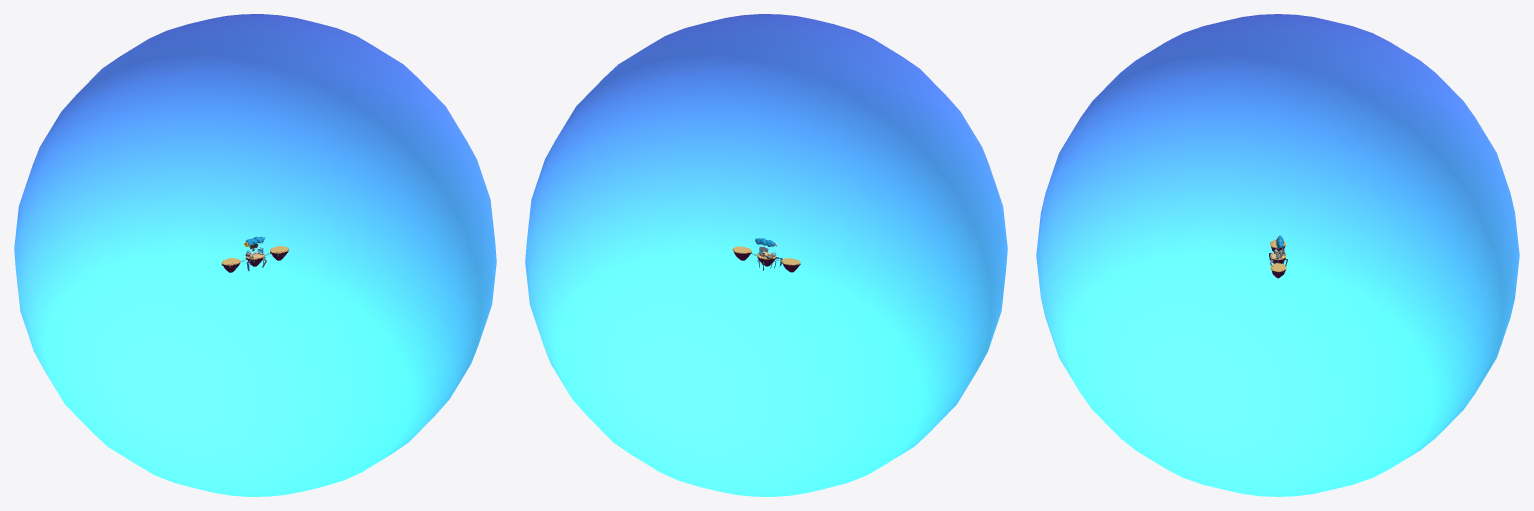
The model's file is island.gltf.
3 views of the same model, side by side, from view 1: azimuth 30°, elevation 25°; view 2: azimuth 150°, elevation 25°; view 3: azimuth 270°, elevation 25° (orthographic).
Visible parts, largest first — view 1: Object_19, Object_20; view 2: Object_19; view 3: Object_19.
Part boxes in pixels (x1,y1,x2,y2): Object_19: [14, 14, 496, 496]; Object_20: [221, 246, 288, 272]; Object_19: [525, 14, 1007, 496]; Object_19: [1036, 14, 1519, 496].
Size of the model in its own units: 36407 by 36661 by 36407.
Materials: 21 (14 with a texture image).
